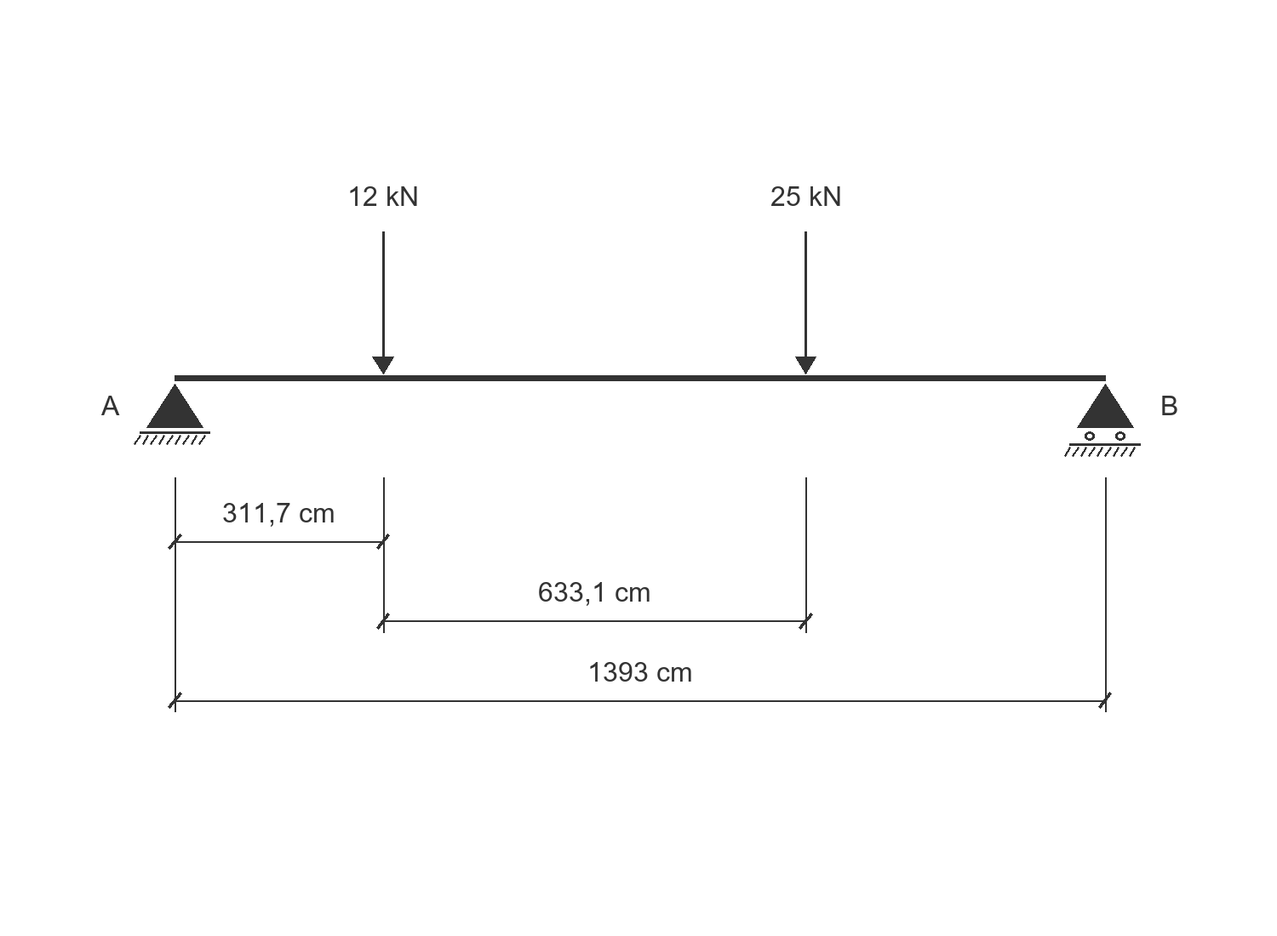pin_support: (134, 384, 210, 445)
point_load: (372, 231, 394, 374), (795, 231, 816, 374)
roller_support: (1064, 384, 1141, 457)
